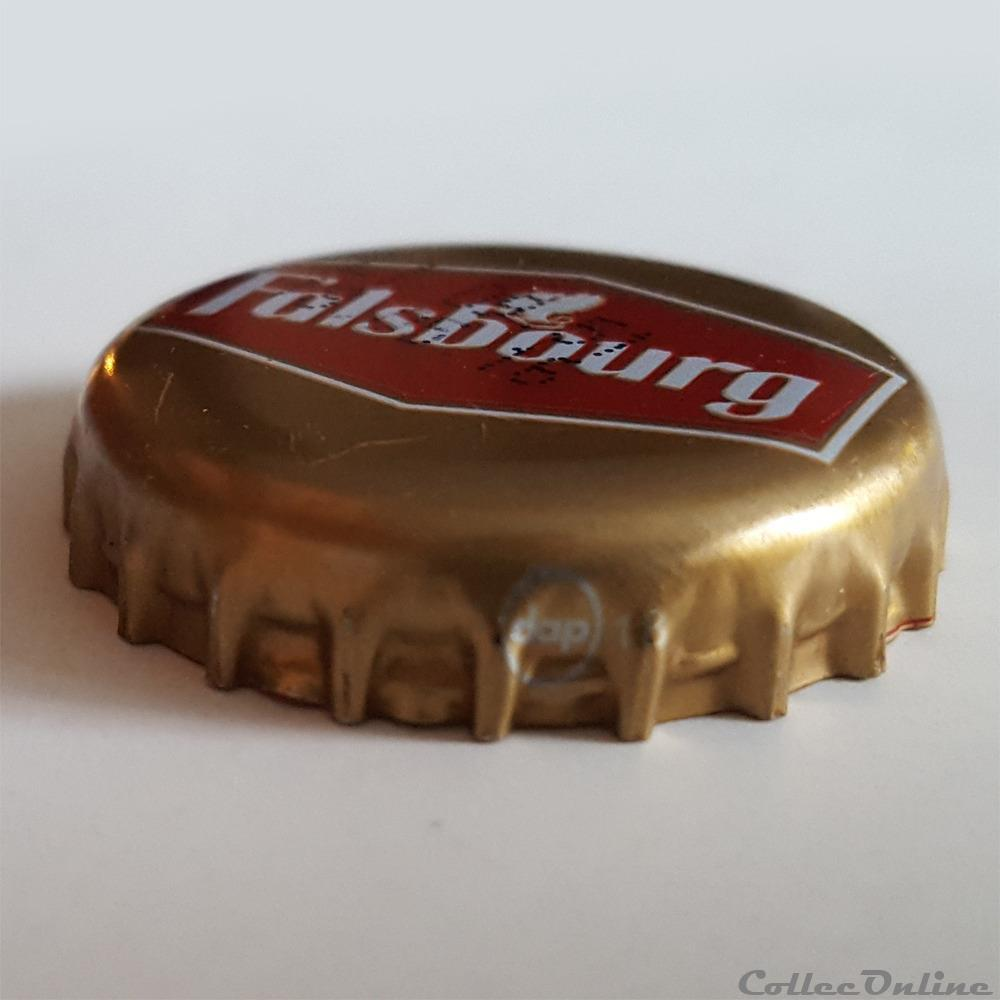metal: (63, 246, 950, 741)
